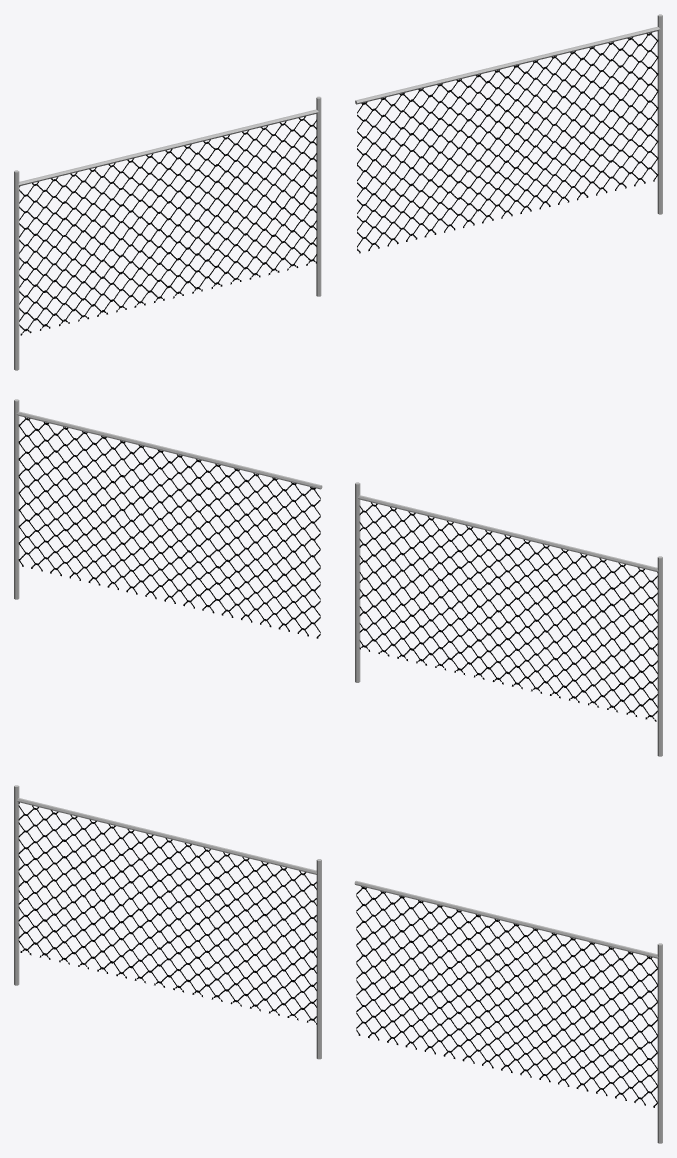
Rendered from ChainFence.fbx.
3 renders of one model, top to bottom at view 1: azimuth 30°, elevation 25°; view 2: azimuth 150°, elevation 25°; view 3: azimuth 330°, elevation 25°, orthographic.
Visible parts, largest first — view 1: TexturesCom_MetalVarious0026_1_seamless_S.002, Cylinder.004; view 2: TexturesCom_MetalVarious0026_1_seamless_S.002, Cylinder.004; view 3: TexturesCom_MetalVarious0026_1_seamless_S.002, Cylinder.004.
Part boxes in pixels (x1,y1,x2,y2): TexturesCom_MetalVarious0026_1_seamless_S.002: (14,96,321,370); Cylinder.004: (355,14,662,253); TexturesCom_MetalVarious0026_1_seamless_S.002: (355,482,662,756); Cylinder.004: (14,399,322,638); TexturesCom_MetalVarious0026_1_seamless_S.002: (14,785,321,1059); Cylinder.004: (354,880,662,1143).
Bounding box in the file's own units: 570 × 167 × 4.87.
